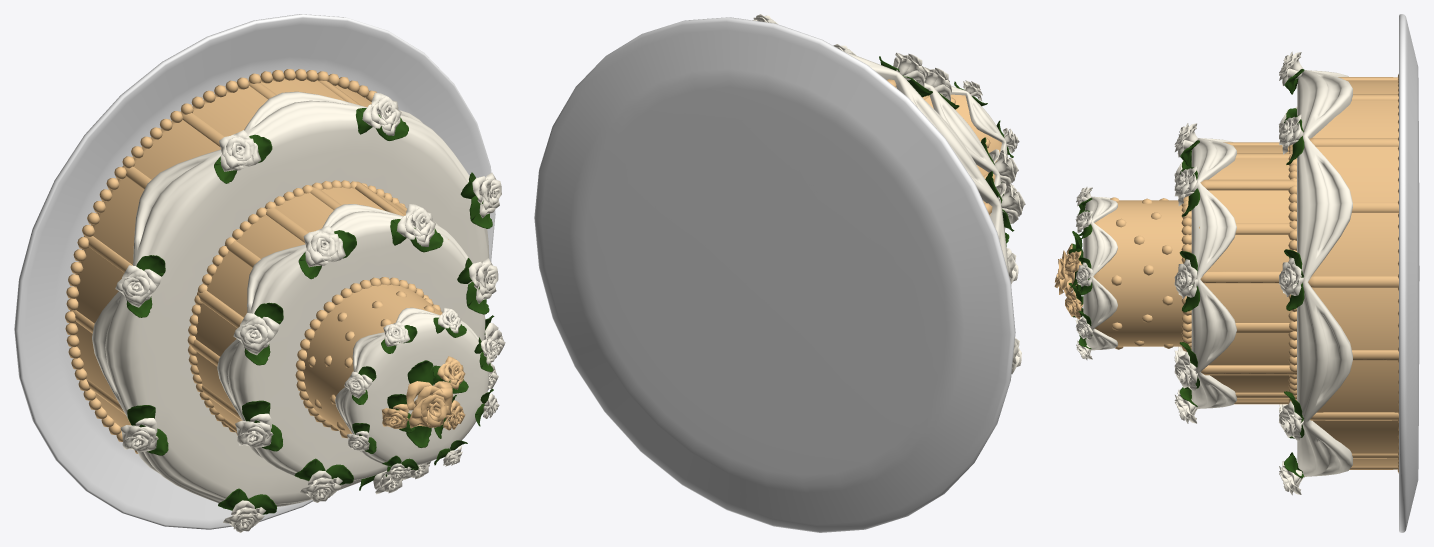
File: 13500_Wedding_Cake_v1_L1.obj
The picture shows the model from 3 angles, left to right: view 1: azimuth 30°, elevation 25°; view 2: azimuth 150°, elevation 25°; view 3: azimuth 270°, elevation 25°; orthographic projection. The views are drawn at different scales.
Parts seen in each view (by area): view 1: plate, cream3, cream2, cake3, cream1, cake2, cake, cream7, cream4, cream6, cream5, cream8 (+16 smaller); view 2: plate, cream3, cream2, cream1, rose015, rose014, cake, rose006, rose005; view 3: cake3, cream3, cake2, cake, plate, cream2, cream4, cream5, cream1, cream6, cream9, cream8 (+10 smaller).
Part boxes in pixels (x1,y1,x2,y2): plate: [14, 14, 495, 529]; cream3: [92, 91, 489, 506]; cream2: [217, 204, 485, 481]; cake3: [74, 78, 371, 427]; cream1: [335, 307, 488, 467]; cake2: [195, 187, 405, 426]; cake: [303, 284, 442, 435]; cream7: [65, 69, 376, 453]; cream4: [191, 181, 448, 432]; cream6: [187, 180, 405, 435]; cream5: [70, 80, 360, 414]; cream8: [295, 277, 429, 430]; plate: [534, 17, 1015, 532]; cream3: [843, 51, 1008, 274]; cream2: [914, 79, 1005, 231]; cream1: [940, 86, 1007, 195]; rose015: [996, 183, 1025, 223]; rose014: [893, 52, 925, 86]; cake: [941, 94, 1001, 162]; rose006: [989, 149, 1018, 186]; rose005: [923, 67, 951, 101]; cake3: [1312, 80, 1398, 467]; cream3: [1297, 70, 1352, 476]; cake2: [1204, 145, 1291, 402]; cake: [1093, 200, 1191, 346]; plate: [1399, 14, 1419, 532]; cream2: [1191, 138, 1236, 408]; cream4: [1199, 142, 1296, 404]; cream5: [1308, 77, 1398, 469]; cream1: [1083, 196, 1117, 350]; cream6: [1288, 144, 1296, 403]; cream9: [1110, 197, 1173, 349]; cream8: [1181, 196, 1191, 351].
Bounding box in the file's own units: 18.59 × 18.59 × 13.06.
